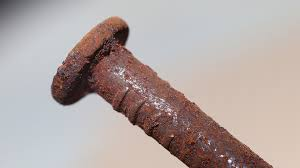rust: (61, 21, 128, 101), (140, 83, 205, 146)
